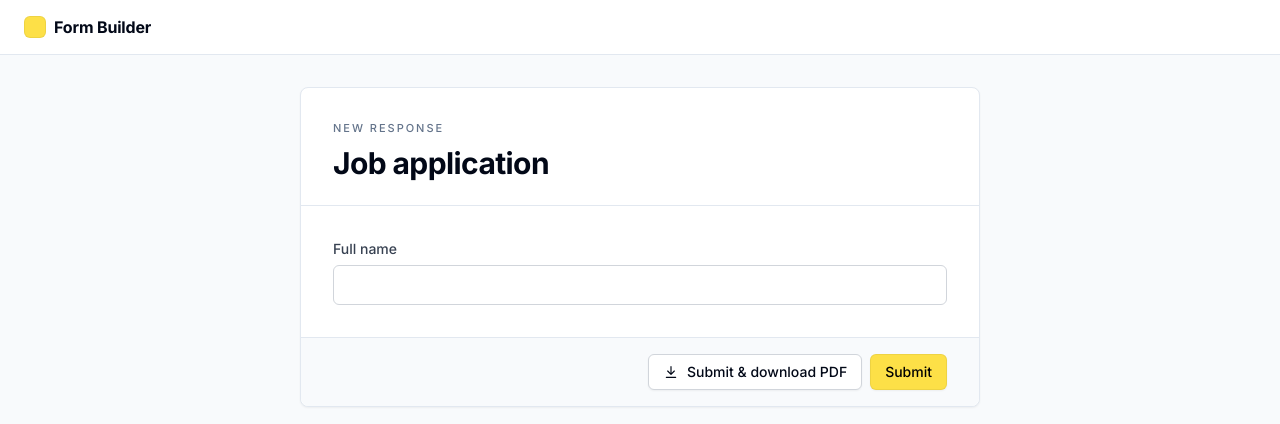
Test case: responses list after submit › shows the new response highlighted as just submitted
Click the button "Submit".
click(909, 372)  # box [870,354,947,390]
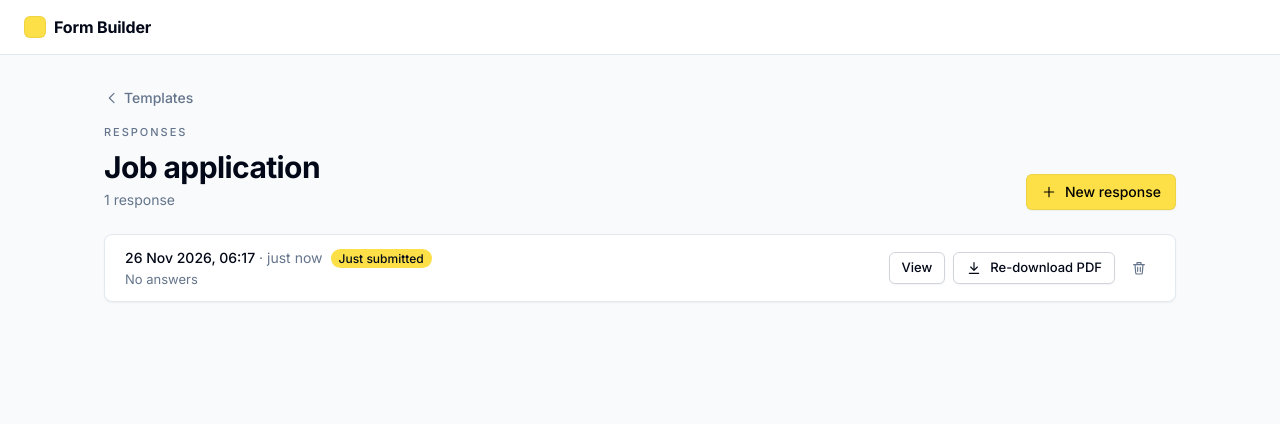
Expected: the heading "Job application" is shown, [104,148,320,184]
Expected: the text "1 response" is shown, [104,190,175,208]
Expected: the text "Just submitted" is shown, [330,248,432,268]
